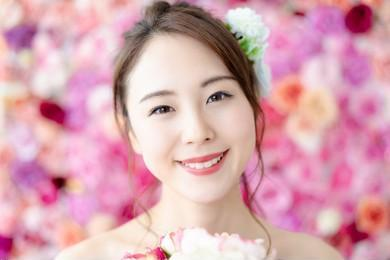face: (123, 45, 260, 204)
